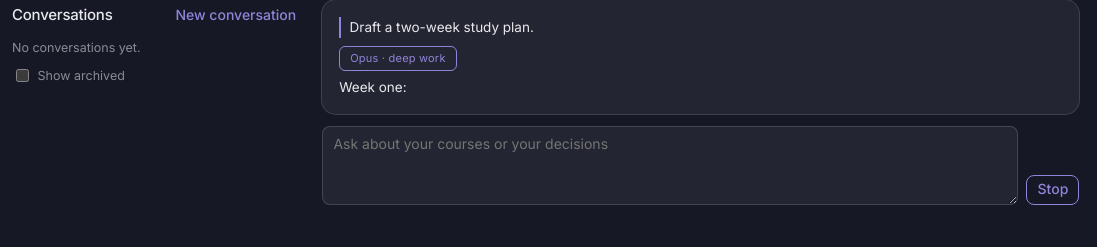
Test case: after a request closes with its answer unstored the messages are polled every 5 s, for up to 60 s › keeps polling for a runner that stores it later than 10 s
Click the button "Stop" at (1053, 190), box [1026,175,1080,205]
Wait 12000 ms
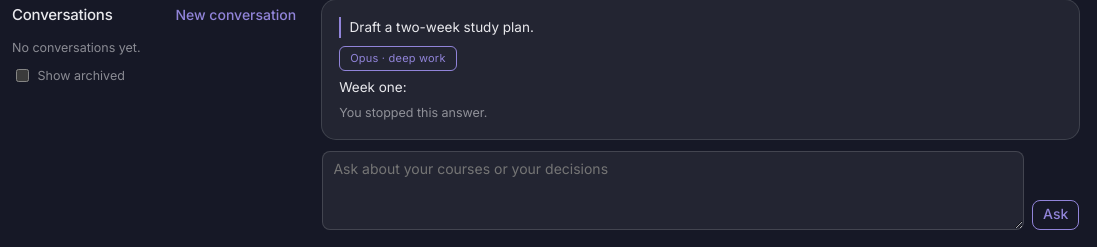
Expected: the text "Week one:" is shown, [339,79,410,95]
Expected: the text "You stopped this answer." is shown, [339,105,487,120]
